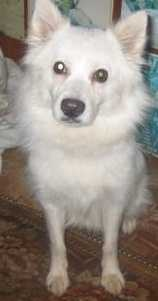dog: (5, 3, 156, 282)
